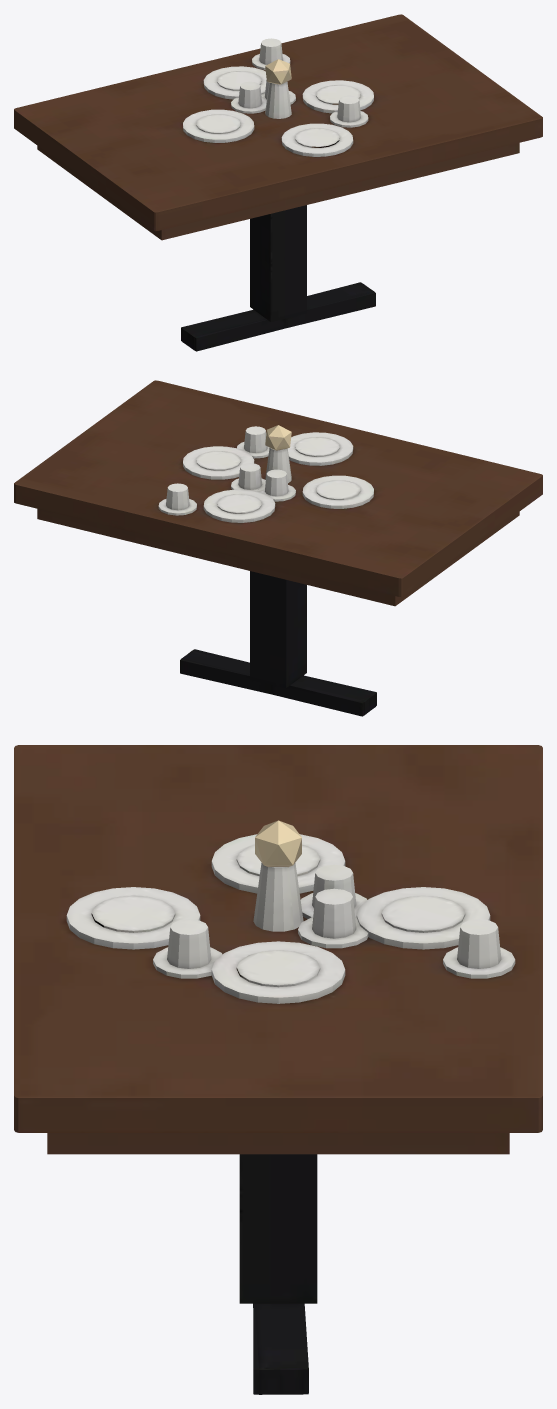
File: breakfast_table.glb
3 views of the same model, one above another, from view 1: azimuth 30°, elevation 25°; view 2: azimuth 150°, elevation 25°; view 3: azimuth 270°, elevation 25° (orthographic). The views are drawn at different scales.
Visible parts, largest first — view 1: breakfast_table; view 2: breakfast_table; view 3: breakfast_table.
Part boxes in pixels (x1,y1,x2,y2): breakfast_table: (14, 14, 542, 351); breakfast_table: (14, 380, 542, 716); breakfast_table: (14, 745, 542, 1394).
Size of the model in its own units: 1.5 by 0.975 by 0.9501.
Materials: 1 (1 with a texture image).
